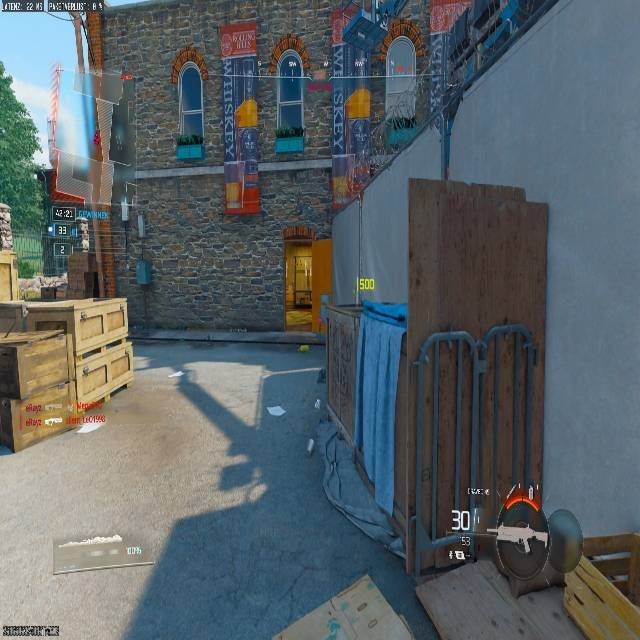player: (79, 224, 88, 250)
